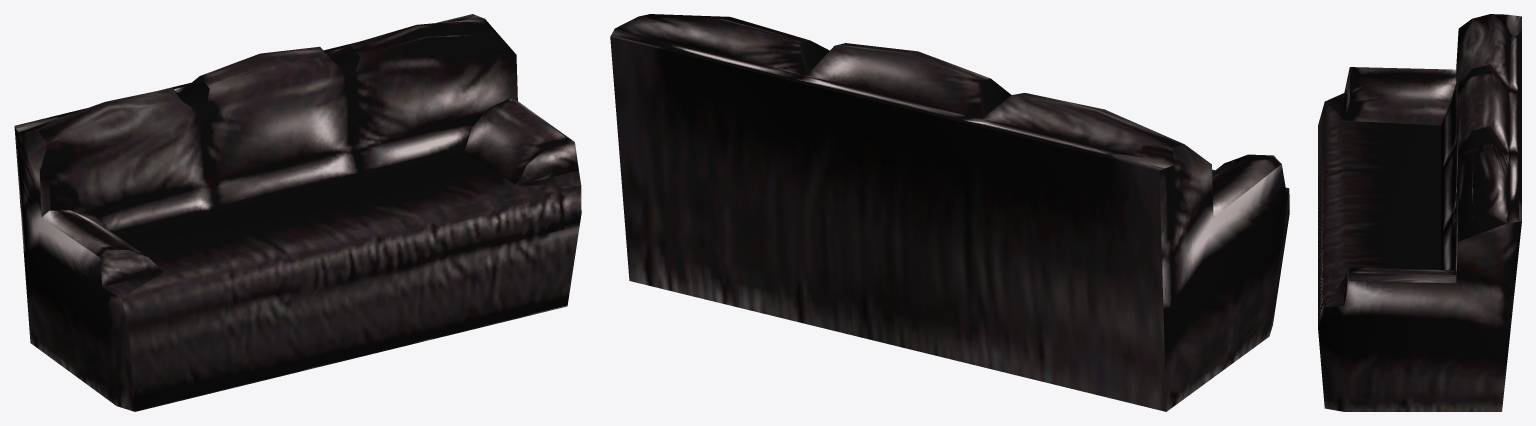
The model's file is blklethcouch.fbx.
3 views of the same model, side by side, from view 1: azimuth 30°, elevation 25°; view 2: azimuth 150°, elevation 25°; view 3: azimuth 270°, elevation 25° (orthographic). The views are drawn at different scales.
Visible parts, largest first — view 1: mesh_0; view 2: mesh_0; view 3: mesh_0.
Part boxes in pixels (x1,y1,x2,y2): mesh_0: (14, 14, 581, 411); mesh_0: (610, 14, 1289, 411); mesh_0: (1318, 14, 1521, 411).
Size of the model in its own units: 203 by 97.64 by 82.23.
1 material, 1 textured.
